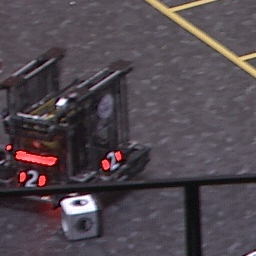Red: (16, 171, 48, 189), (97, 149, 123, 171)
Robot: (1, 47, 155, 210)
